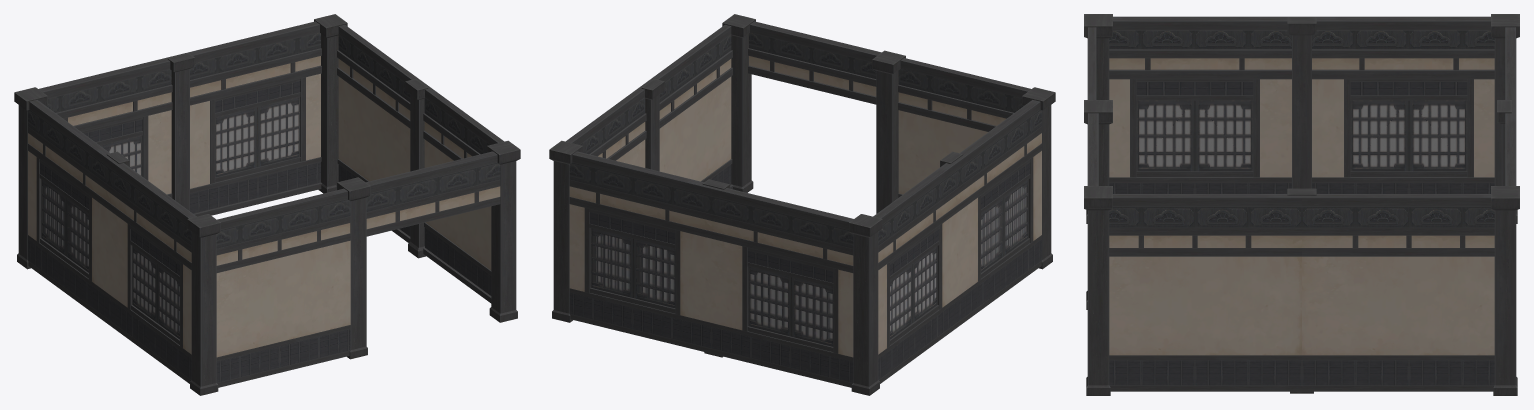
Rendered from Homeworld_Interior_Dq_Room_J_Wall_01_Vo.fbx.
3 renders of one model, left to right at view 1: azimuth 30°, elevation 25°; view 2: azimuth 150°, elevation 25°; view 3: azimuth 270°, elevation 25°, orthographic. The views are drawn at different scales.
Visible parts, largest first — view 1: Homeworld_Interior_Dq_Room_Wall_02_Vo (×4), Homeworld_Interior_Dq_Room_Wall_01_Vo (×3), Homeworld_Interior_Dq_Room_Pillar_01_Vo (×5), Homeworld_Interior_Dq_Room_Wall_04_Vo, Homeworld_Interior_Dq_Room_Pillar_02_Vo (×2), Homeworld_Interior_Dq_Room_J_Filling_01_Vo; view 2: Homeworld_Interior_Dq_Room_Wall_02_Vo (×4), Homeworld_Interior_Dq_Room_Wall_01_Vo (×3), Homeworld_Interior_Dq_Room_Pillar_01_Vo (×5), Homeworld_Interior_Dq_Room_J_Filling_01_Vo, Homeworld_Interior_Dq_Room_Wall_04_Vo, Homeworld_Interior_Dq_Room_Pillar_02_Vo; view 3: Homeworld_Interior_Dq_Room_Wall_01_Vo (×3), Homeworld_Interior_Dq_Room_Wall_02_Vo (×4), Homeworld_Interior_Dq_Room_Pillar_01_Vo (×5), Homeworld_Interior_Dq_Room_Pillar_02_Vo (×2), Homeworld_Interior_Dq_Room_Wall_04_Vo.
Part boxes in pixels (x1,y1,x2,y2): Homeworld_Interior_Dq_Room_Wall_02_Vo (×4): [28, 21, 321, 383]; Homeworld_Interior_Dq_Room_Wall_01_Vo (×3): [216, 24, 504, 387]; Homeworld_Interior_Dq_Room_Pillar_01_Vo (×5): [14, 14, 520, 395]; Homeworld_Interior_Dq_Room_Wall_04_Vo: [366, 151, 500, 236]; Homeworld_Interior_Dq_Room_Pillar_02_Vo (×2): [167, 53, 428, 258]; Homeworld_Interior_Dq_Room_J_Filling_01_Vo: [42, 186, 179, 332]; Homeworld_Interior_Dq_Room_Wall_02_Vo (×4): [569, 100, 1041, 387]; Homeworld_Interior_Dq_Room_Wall_01_Vo (×3): [565, 24, 1031, 197]; Homeworld_Interior_Dq_Room_Pillar_01_Vo (×5): [549, 14, 1055, 395]; Homeworld_Interior_Dq_Room_J_Filling_01_Vo: [592, 186, 1027, 340]; Homeworld_Interior_Dq_Room_Wall_04_Vo: [748, 21, 881, 104]; Homeworld_Interior_Dq_Room_Pillar_02_Vo: [641, 79, 664, 171]; Homeworld_Interior_Dq_Room_Wall_01_Vo (×3): [1088, 27, 1494, 391]; Homeworld_Interior_Dq_Room_Wall_02_Vo (×4): [1109, 16, 1515, 193]; Homeworld_Interior_Dq_Room_Pillar_01_Vo (×5): [1084, 14, 1519, 395]; Homeworld_Interior_Dq_Room_Pillar_02_Vo (×2): [1287, 17, 1511, 188]; Homeworld_Interior_Dq_Room_Wall_04_Vo: [1088, 113, 1098, 185].
Size of what is drawn, in the model's own units: 10.18 by 5.12 by 10.18.
